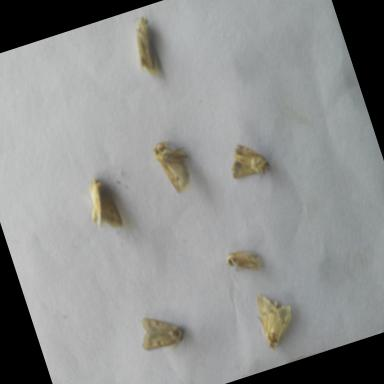abw: (243, 279, 307, 356), (69, 165, 130, 243), (146, 127, 206, 203), (120, 6, 174, 89), (129, 302, 194, 366), (219, 128, 281, 194), (216, 234, 270, 286)
